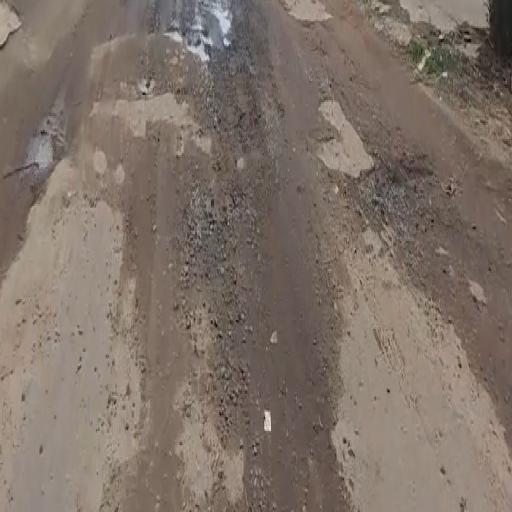ravelling: (141, 86, 301, 494), (321, 66, 460, 332)
